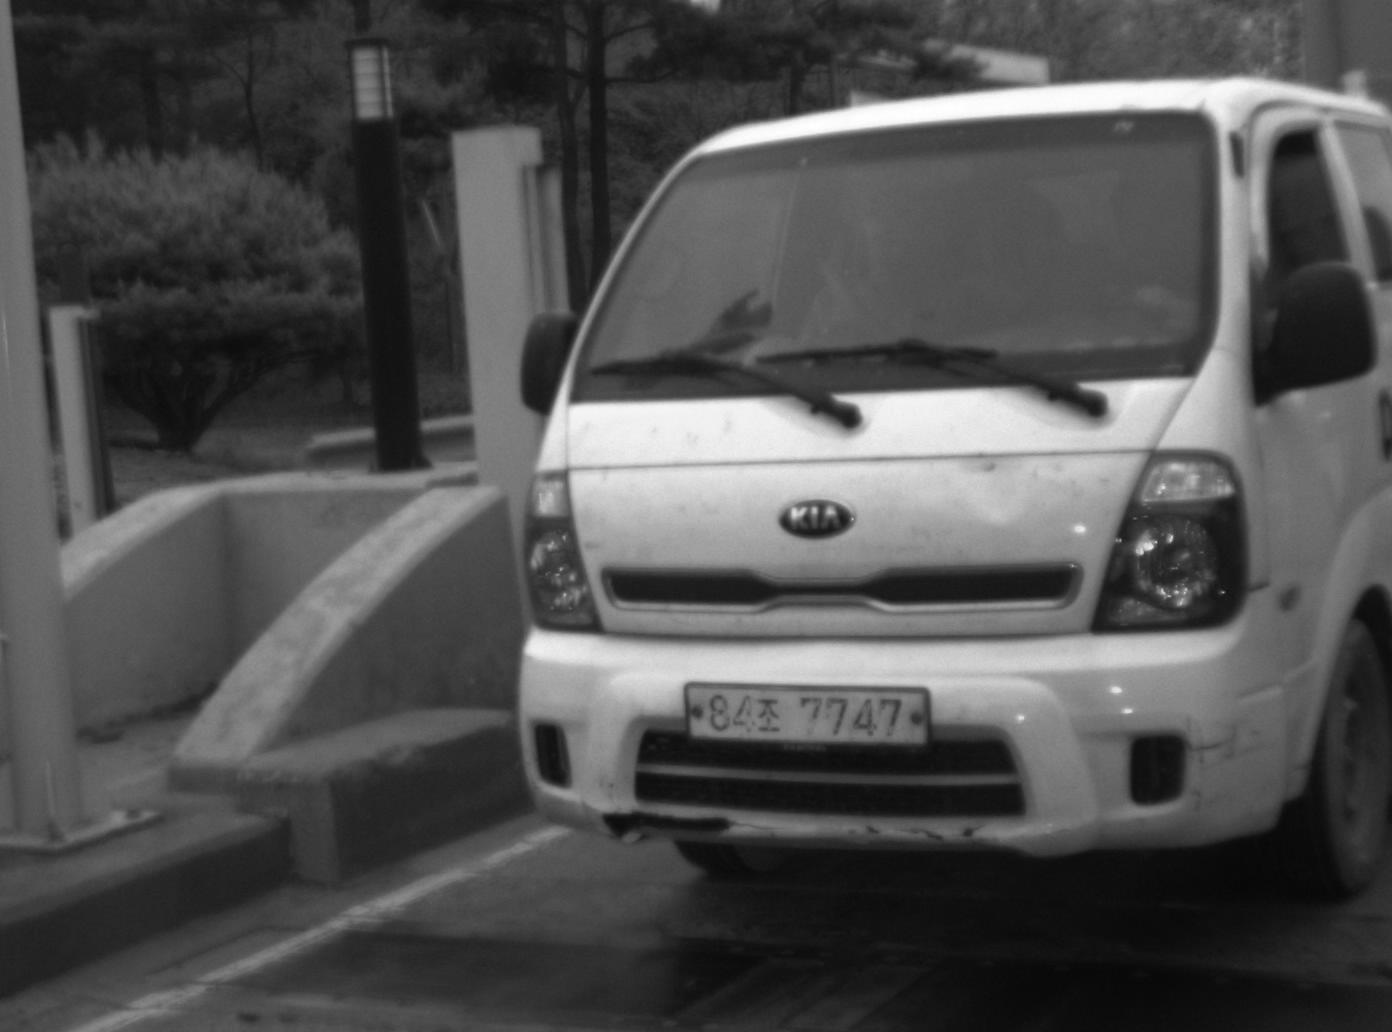car: (506, 71, 1390, 903)
plate: (683, 680, 931, 746)
